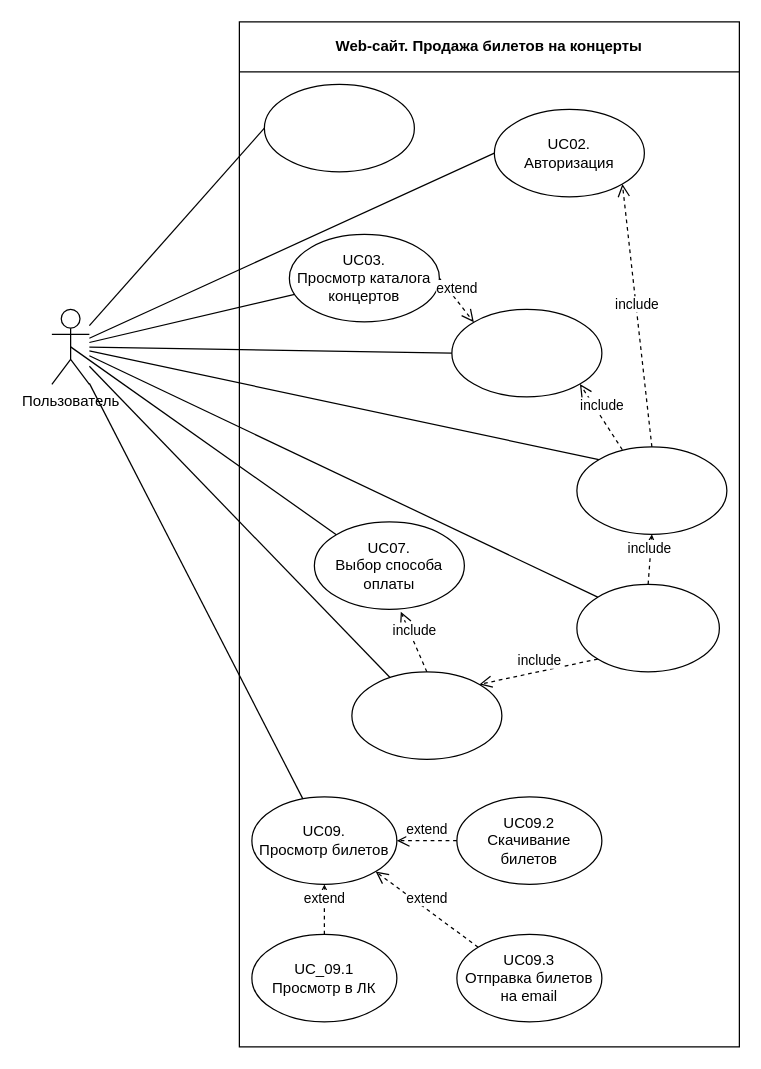
Some shapes in this 761 by 1069 pixel diagram are drawn without their labels. The shapes that lost their labels are listed below. From the top down, each one's box as (x1, y1, x2, y2) in pixels, then its label:
(263, 83, 414, 172): UC01. Регистрация
(451, 308, 602, 397): UC04. Просмотр информации по концерту
(576, 446, 727, 534): UC05. Бронирование мест
(576, 583, 719, 672): UC06 . Оформление заказа
(351, 671, 502, 759): UC08 . Оплата заказа
